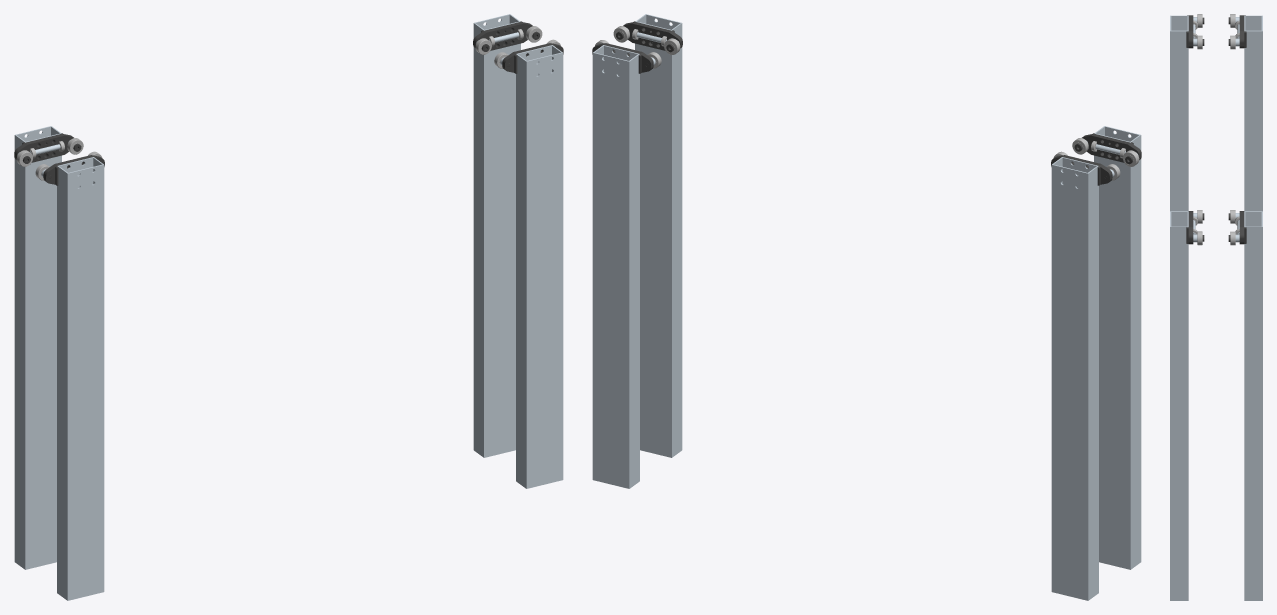
3 renders of one model, left to right at view 1: azimuth 30°, elevation 25°; view 2: azimuth 150°, elevation 25°; view 3: azimuth 270°, elevation 25°, orthographic. The views are drawn at different scales.
Visible parts, largest first — view 1: Tube 2"x1"x22.25" (×4), Sliding Bearing Block Plate - SLIDE-001 (×2); view 2: Tube 2"x1"x22.25" (×4), Sliding Bearing Block Plate - SLIDE-001 (×2); view 3: Tube 2"x1"x22.25" (×4), Sliding Bearing Block Plate - SLIDE-001 (×4).
Boxes of the visible parts, box(x1,y1,x2,y2) form: Tube 2"x1"x22.25" (×4): box(14, 14, 563, 600); Sliding Bearing Block Plate - SLIDE-001 (×2): box(14, 21, 532, 162); Tube 2"x1"x22.25" (×4): box(592, 14, 1141, 600); Sliding Bearing Block Plate - SLIDE-001 (×2): box(623, 21, 1141, 162); Tube 2"x1"x22.25" (×4): box(1170, 15, 1262, 600); Sliding Bearing Block Plate - SLIDE-001 (×4): box(1186, 15, 1246, 244).
Size of the model in its own units: 0.7239 by 0.5652 by 0.127.
